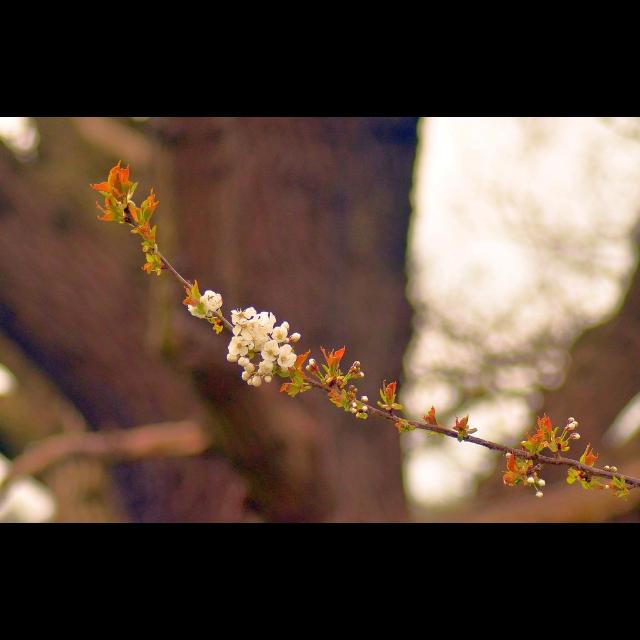Flower: (228, 306, 302, 386), (189, 292, 225, 318)
